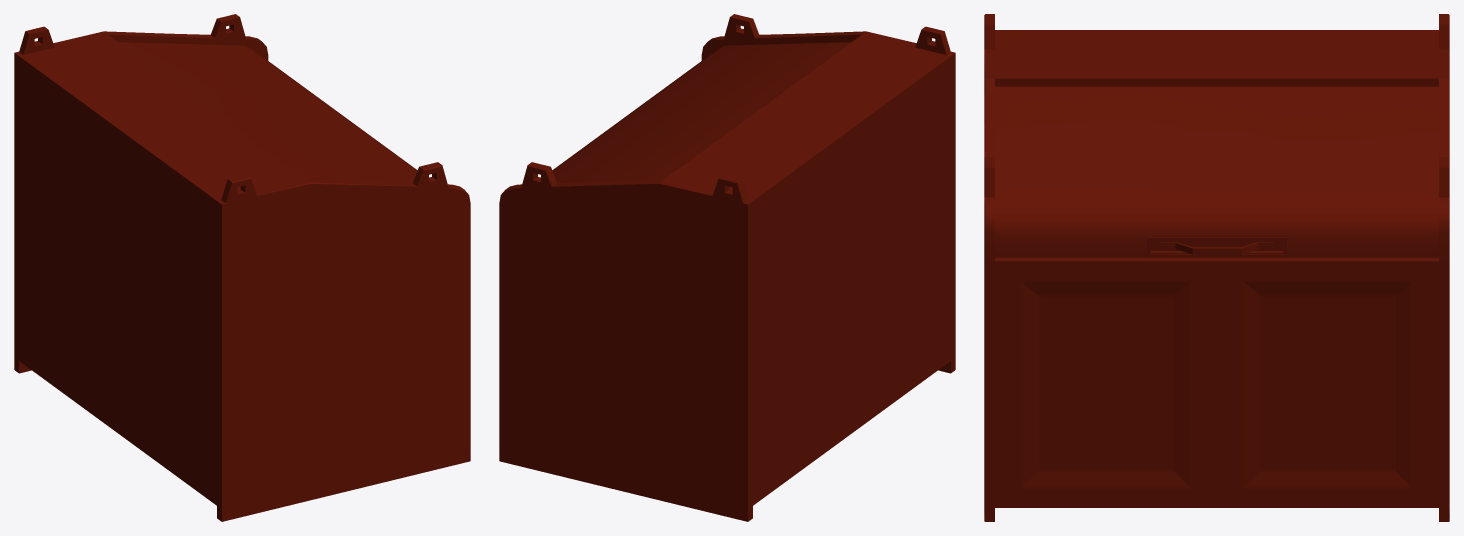
File: storage1.FBX
3 views of the same model, side by side, from view 1: azimuth 30°, elevation 25°; view 2: azimuth 150°, elevation 25°; view 3: azimuth 270°, elevation 25° (orthographic). The views are drawn at different scales.
Visible parts, largest first — view 1: storage1; view 2: storage1; view 3: storage1.
Part boxes in pixels (<box>): storage1: <box>14,14,470,521</box>; storage1: <box>499,14,955,521</box>; storage1: <box>984,14,1449,521</box>.
Bounding box in the file's own units: 82.76 × 107 × 119.
